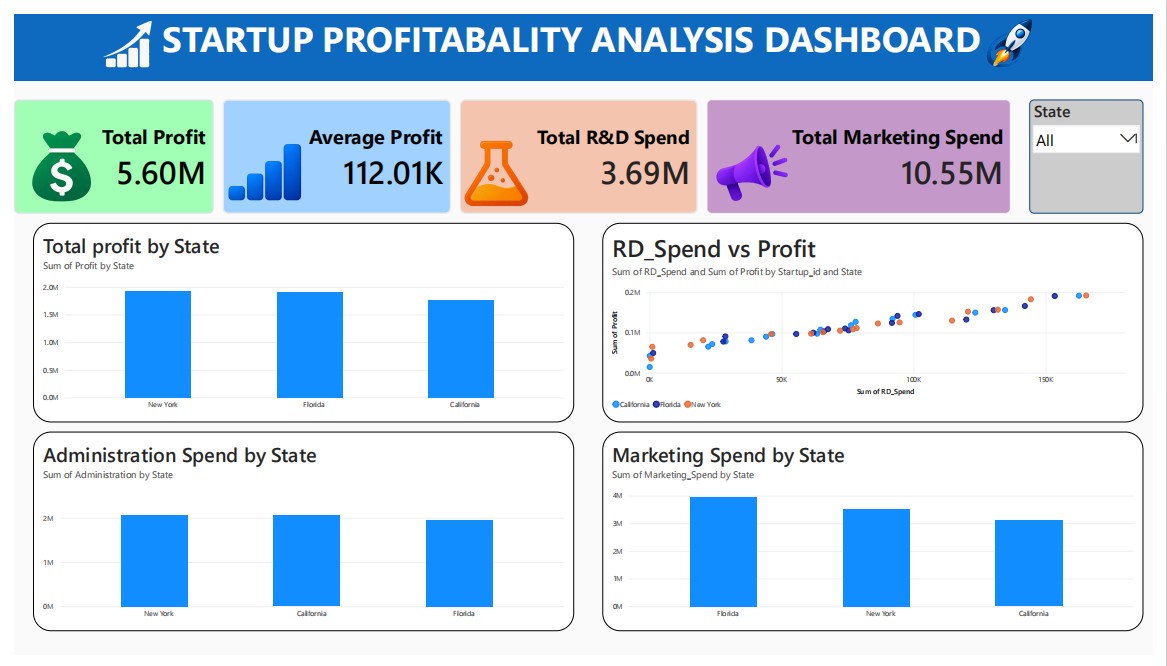

Layout of this report page (visuals, bound fields, positions):
{"tool":"powerbi","page":{"name":"Page 1","canvas":[1920,1080],"ordinal":0},"visuals":[{"type":"cardVisual","fields":{"Data":["startup_profit.Total Profit"]},"box":[0,144,336,192],"z":0},{"type":"cardVisual","fields":{"Data":["startup_profit.Average Profit"]},"box":[352,144,384,192],"z":1000},{"type":"cardVisual","fields":{"Data":["startup_profit.Total R&D Spend"]},"box":[752,144,400,192],"z":2000},{"type":"cardVisual","fields":{"Data":["Sum(startup_profit.Marketing_Spend)"]},"box":[1168,144,512,192],"z":3000},{"type":"clusteredColumnChart","title":"Total profit by State","fields":{"Category":["startup_profit.State"],"Y":["Sum(startup_profit.Profit)"]},"box":[32,352,912,336],"z":4000},{"type":"scatterChart","title":"RD_Spend vs Profit","fields":{"Category":["startup_profit.Startup_id"],"Series":["startup_profit.State"],"X":["Sum(startup_profit.RD_Spend)"],"Y":["Sum(startup_profit.Profit)"]},"box":[992,352,912,336],"z":5000},{"type":"clusteredColumnChart","title":"Administration Spend by State","fields":{"Category":["startup_profit.State"],"Y":["Sum(startup_profit.Administration)"]},"box":[32,704,912,336],"z":6000},{"type":"clusteredColumnChart","title":"Marketing Spend by State","fields":{"Category":["startup_profit.State"],"Y":["Sum(startup_profit.Marketing_Spend)"]},"box":[992,704,912,336],"z":7000},{"type":"slicer","fields":{"Values":["startup_profit.State"]},"box":[1712,144,192,192],"z":8000},{"type":"textbox","box":[0,720,368,304],"z":9000},{"type":"textbox","box":[0,0,1920,112],"z":12000},{"type":"image","box":[1600,0,160,96],"z":13000},{"type":"image","box":[112,0,160,96],"z":14000},{"type":"image","box":[352,192,192,144],"z":15000},{"type":"image","box":[704,192,192,144],"z":16000},{"type":"image","box":[1152,208,192,112],"z":17000},{"type":"image","box":[0,176,160,160],"z":18000}]}

Visuals, with their boxes in screenshot pixels (x1, y1, x2, y2), scaled from the page's 1920x1080 canvas onto the 1167x666 screenshot:
cardVisual - startup_profit.Total Profit: Rect(0, 89, 204, 207)
cardVisual - startup_profit.Average Profit: Rect(214, 89, 447, 207)
cardVisual - startup_profit.Total R&D Spend: Rect(457, 89, 700, 207)
cardVisual - Sum(startup_profit.Marketing_Spend): Rect(710, 89, 1021, 207)
"Total profit by State" clusteredColumnChart: Rect(19, 217, 574, 424)
"RD_Spend vs Profit" scatterChart: Rect(603, 217, 1157, 424)
"Administration Spend by State" clusteredColumnChart: Rect(19, 434, 574, 641)
"Marketing Spend by State" clusteredColumnChart: Rect(603, 434, 1157, 641)
slicer - startup_profit.State: Rect(1041, 89, 1157, 207)
textbox: Rect(0, 444, 224, 631)
textbox: Rect(0, 0, 1166, 69)
image: Rect(972, 0, 1070, 59)
image: Rect(68, 0, 165, 59)
image: Rect(214, 118, 331, 207)
image: Rect(428, 118, 545, 207)
image: Rect(700, 128, 817, 197)
image: Rect(0, 109, 97, 207)
